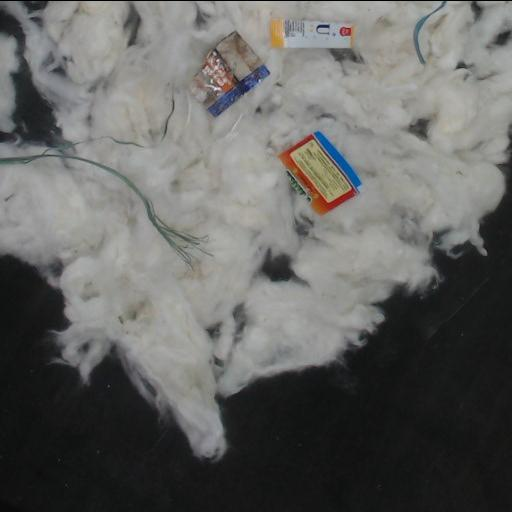conveyor belt: (0, 177, 511, 512)
cotton: (0, 1, 511, 457)
packet: (279, 131, 360, 214), (192, 31, 270, 116), (270, 19, 353, 48)
thread: (0, 141, 209, 265), (413, 1, 447, 64), (106, 137, 142, 147)
